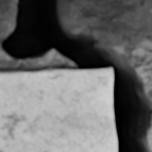brick: (0, 68, 116, 151)
broken_brick: (58, 0, 151, 46), (0, 0, 17, 43)
crack: (1, 0, 151, 151)
